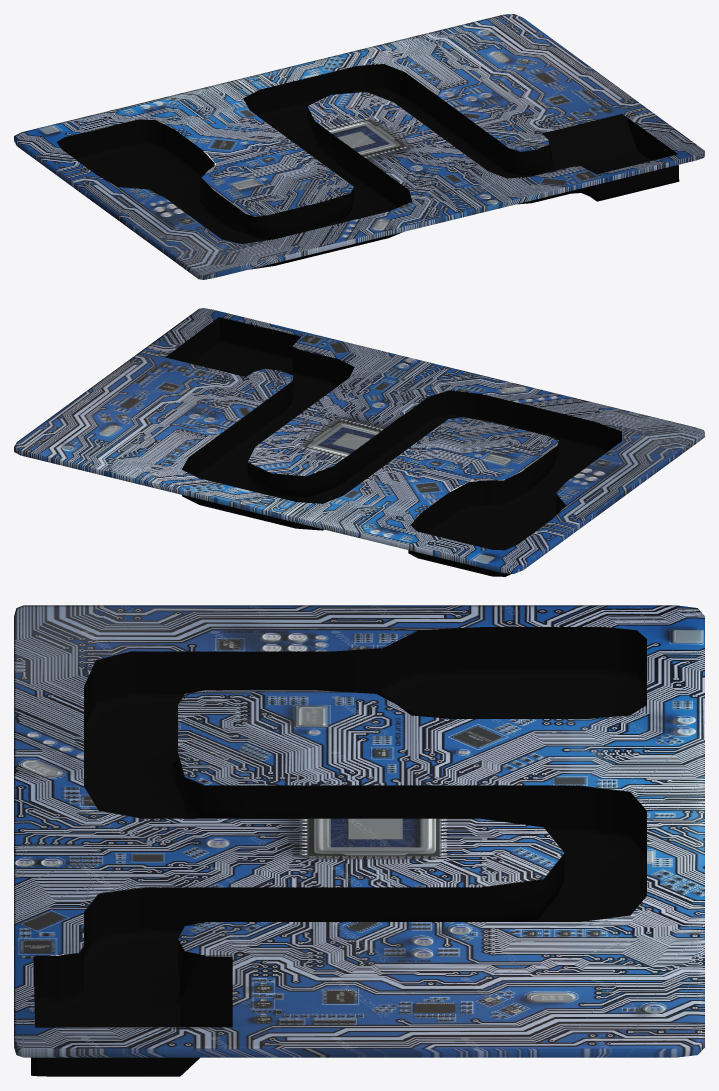
Rendered from BrutePumpFloor.fbx.
3 renders of one model, top to bottom at view 1: azimuth 30°, elevation 25°; view 2: azimuth 150°, elevation 25°; view 3: azimuth 270°, elevation 25°, orthographic. The views are drawn at different scales.
Parts seen in each view (by area): view 1: polySurface8; view 2: polySurface8; view 3: polySurface8.
Boxes of the visible parts, x1,y1,x2,y2 form: polySurface8: (14, 14, 704, 279); polySurface8: (14, 308, 704, 576); polySurface8: (14, 605, 704, 1076).
Bounding box in the file's own units: 19.16 × 0.9847 × 12.62.
